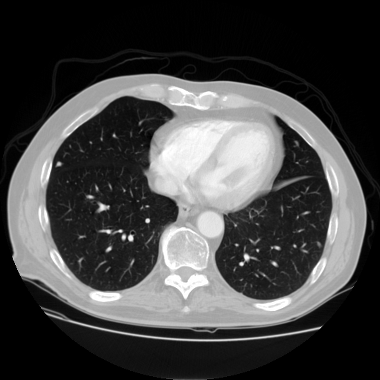nodule: (55, 159, 63, 167)
